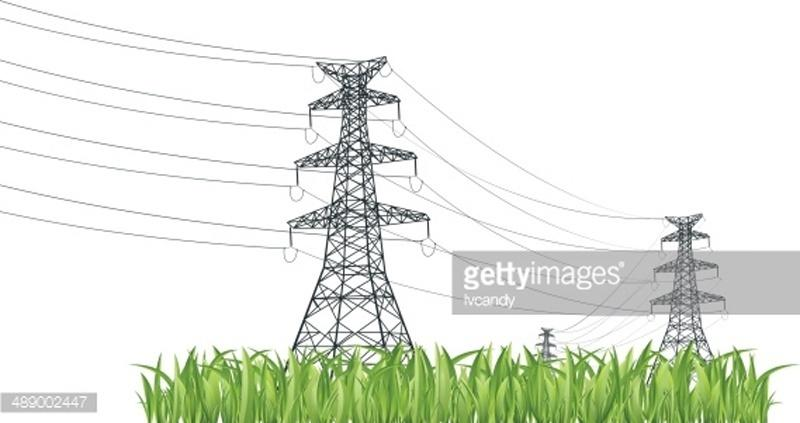power_tower: (271, 36, 434, 362), (641, 207, 728, 356)
